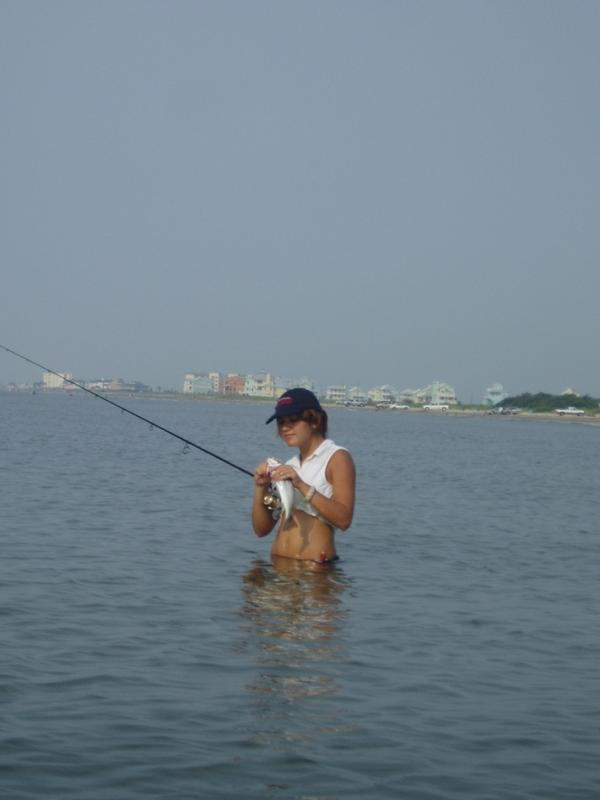person: (253, 389, 355, 565)
